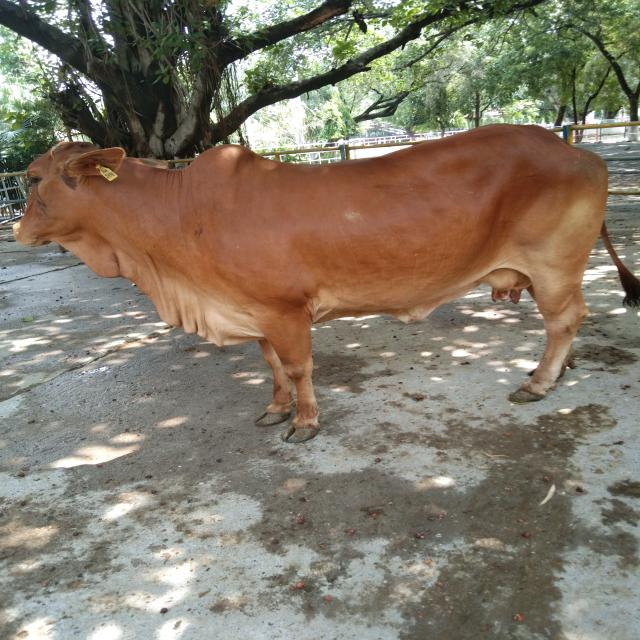1: (171, 142, 279, 169)
Hoof: (282, 423, 321, 443), (507, 386, 545, 403), (254, 409, 291, 426)
